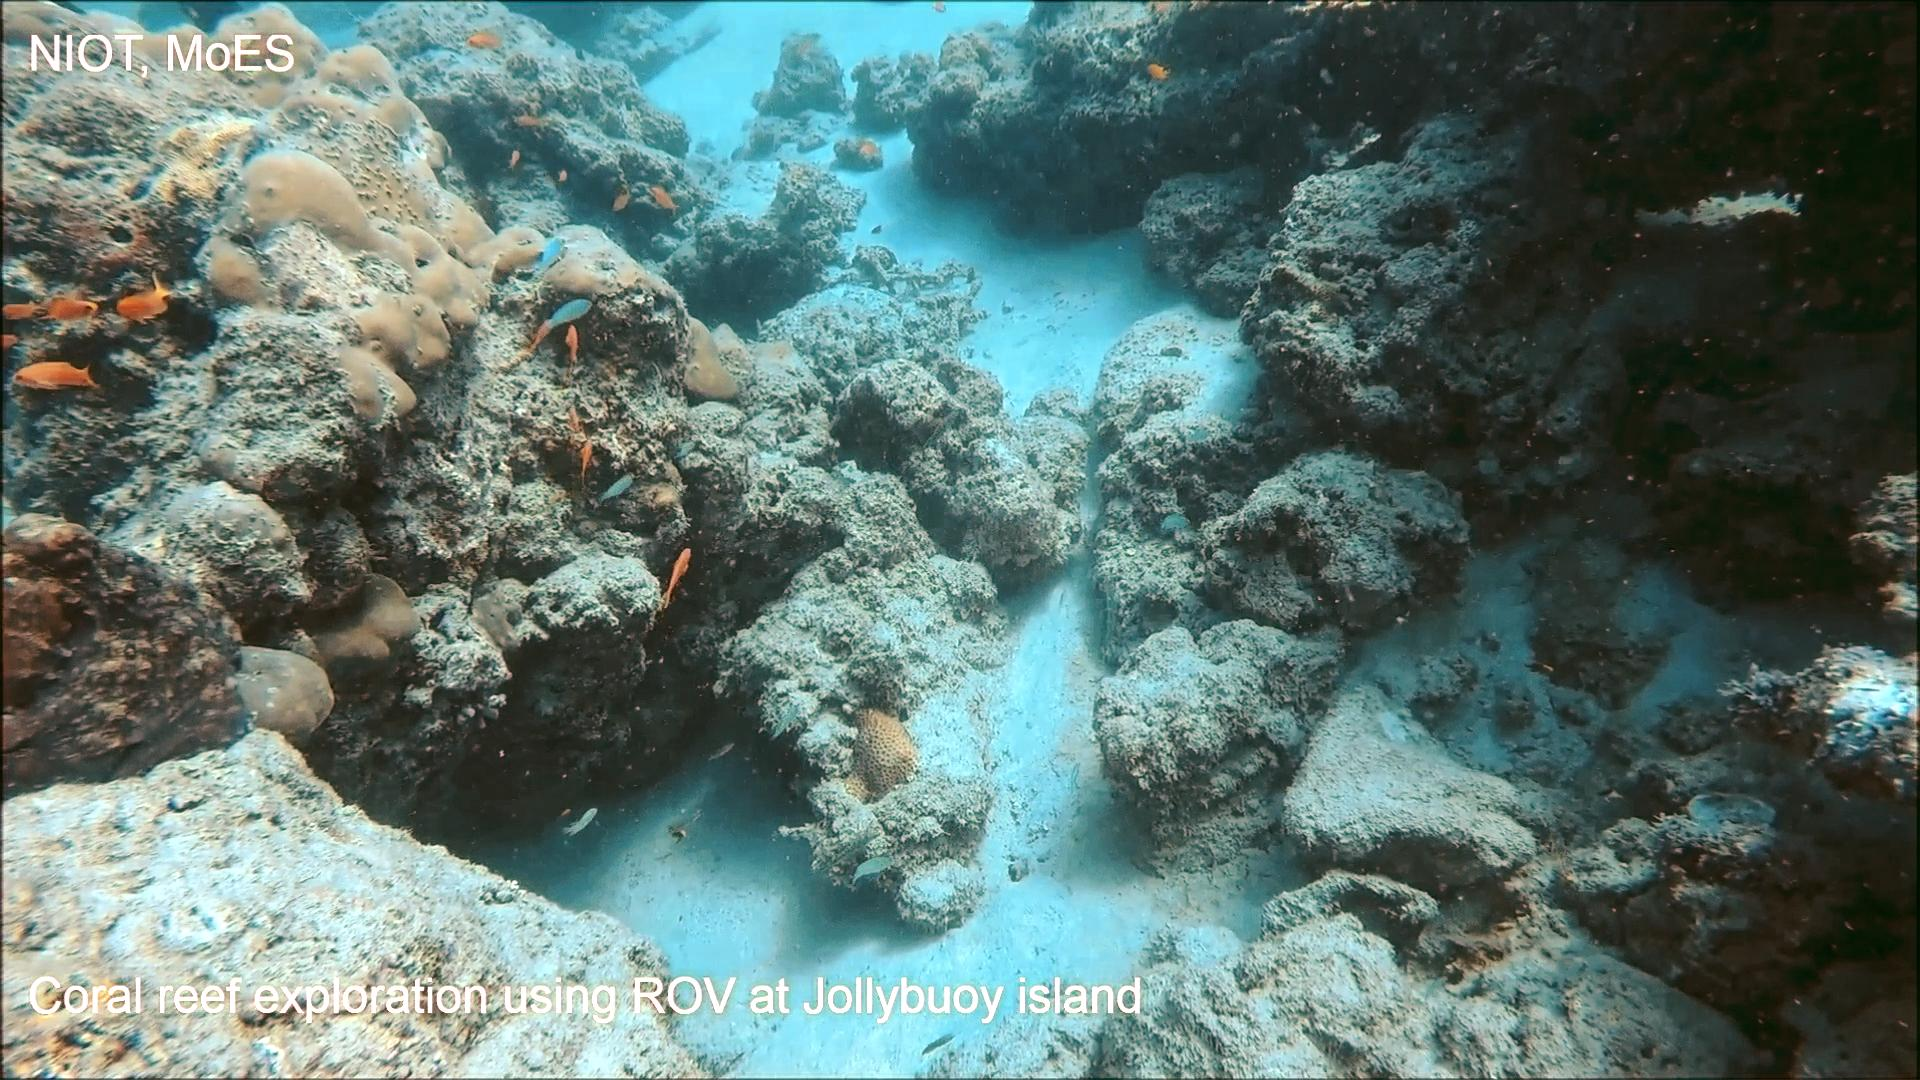Porites-Porites pukoensis: (111, 0, 562, 433)
